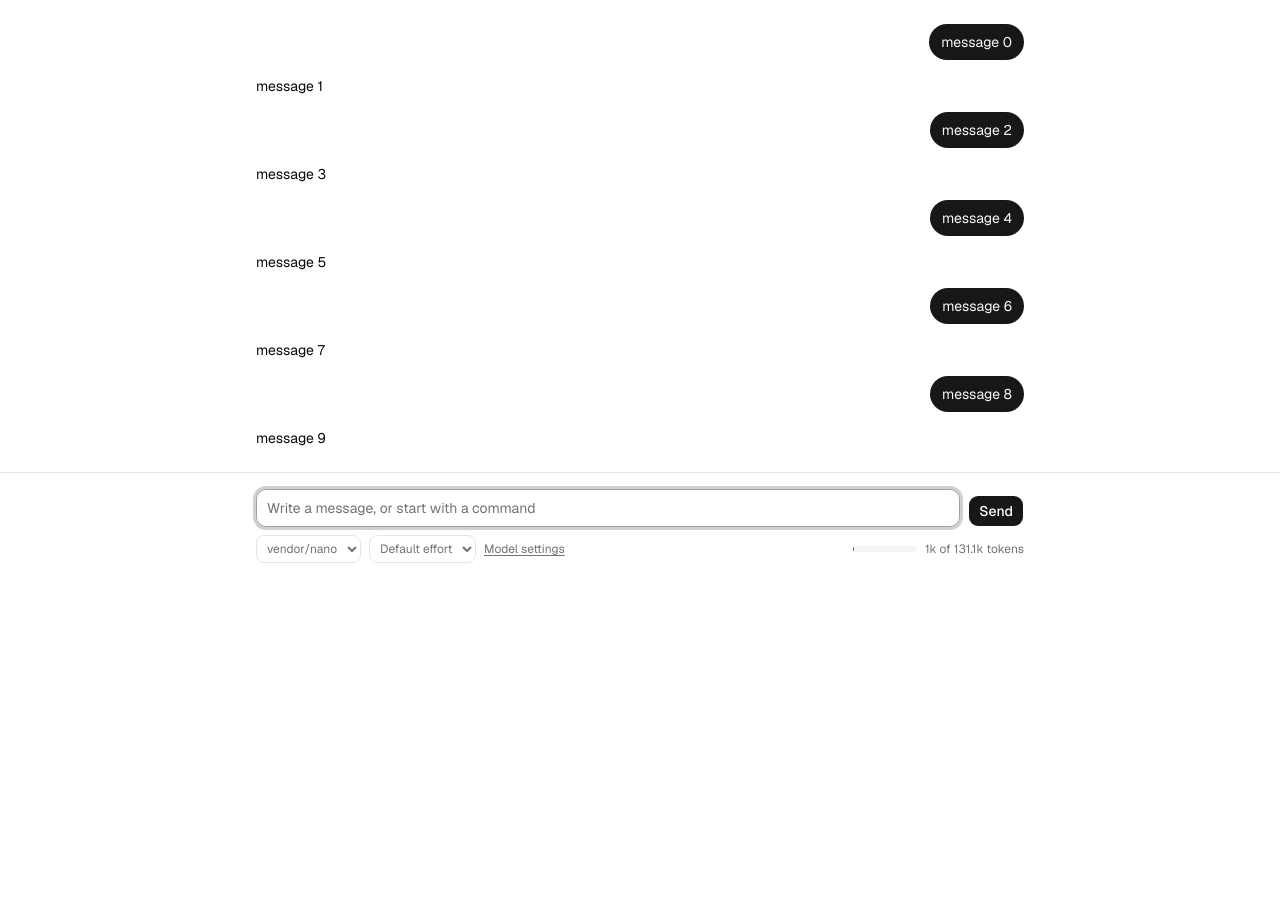
Test case: the context meter › shows the stored figure and follows the usage event
Check: the text "message 9" is shown, box [256,428,326,448]
In the text box labelled "message": (608, 508) [256,489,960,527], type "more"
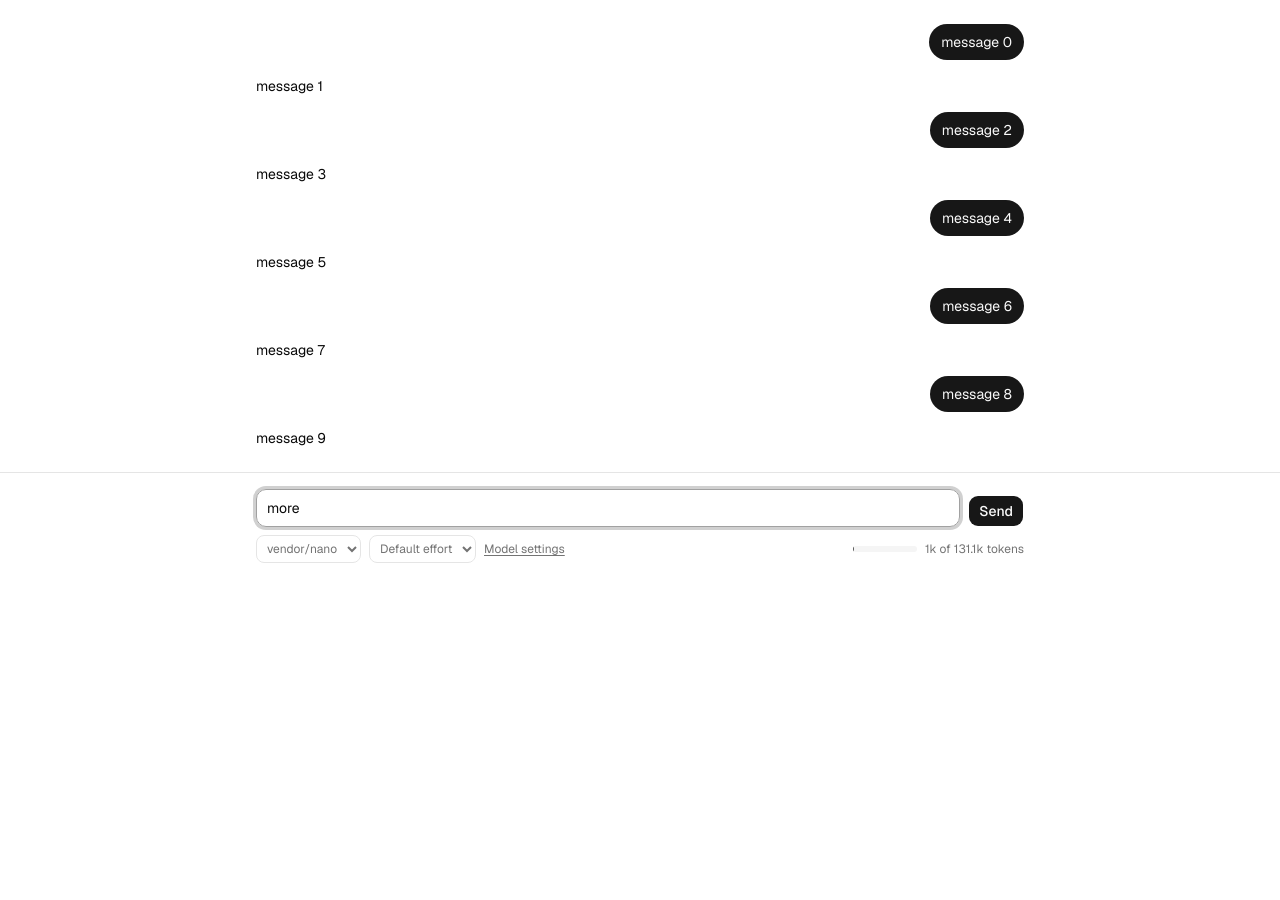
Click the button "Send": (996, 511) [968,495,1024,527]
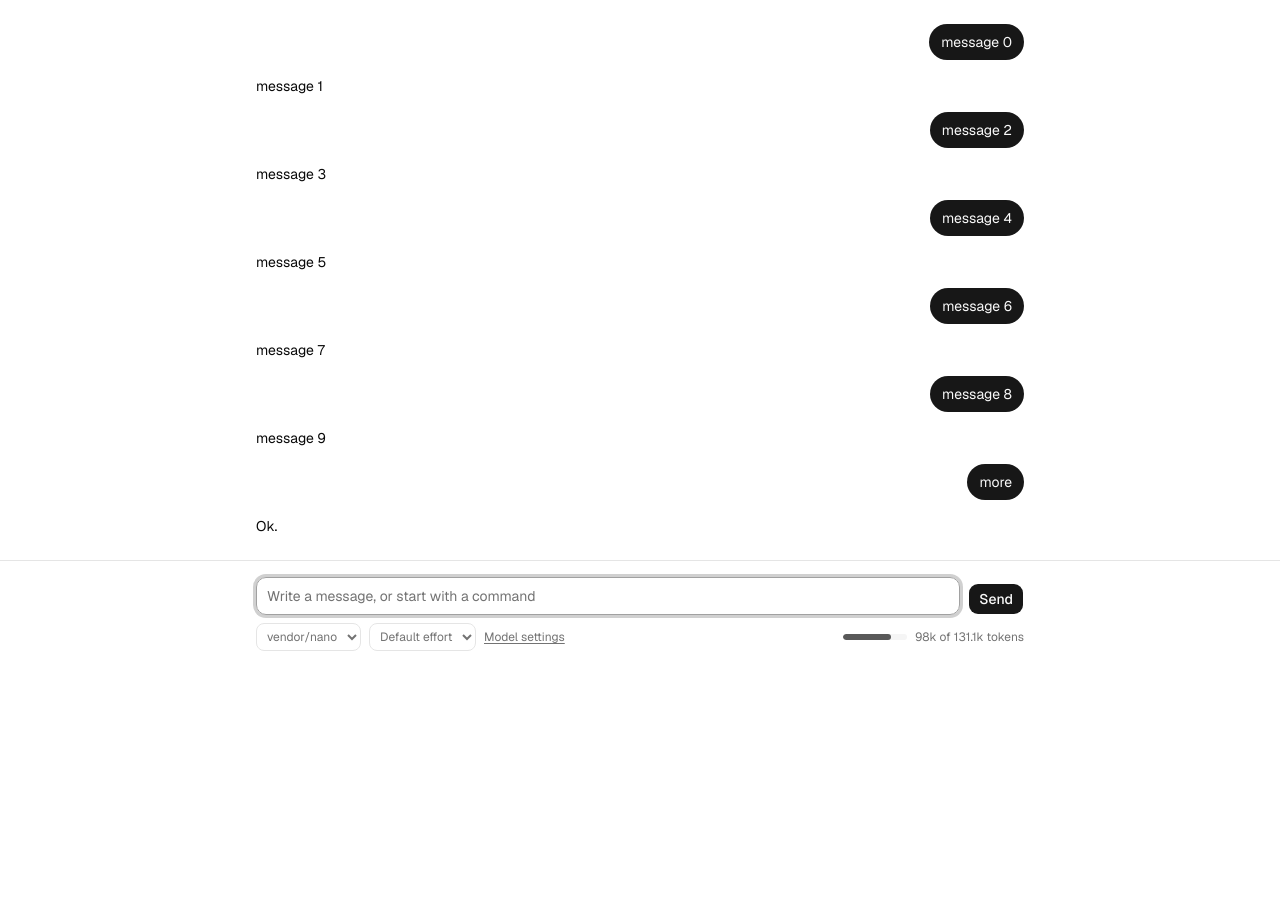
Check: the text with test id "context-figure" reads "98k of 131.1k tokens", box [915,629,1024,645]
